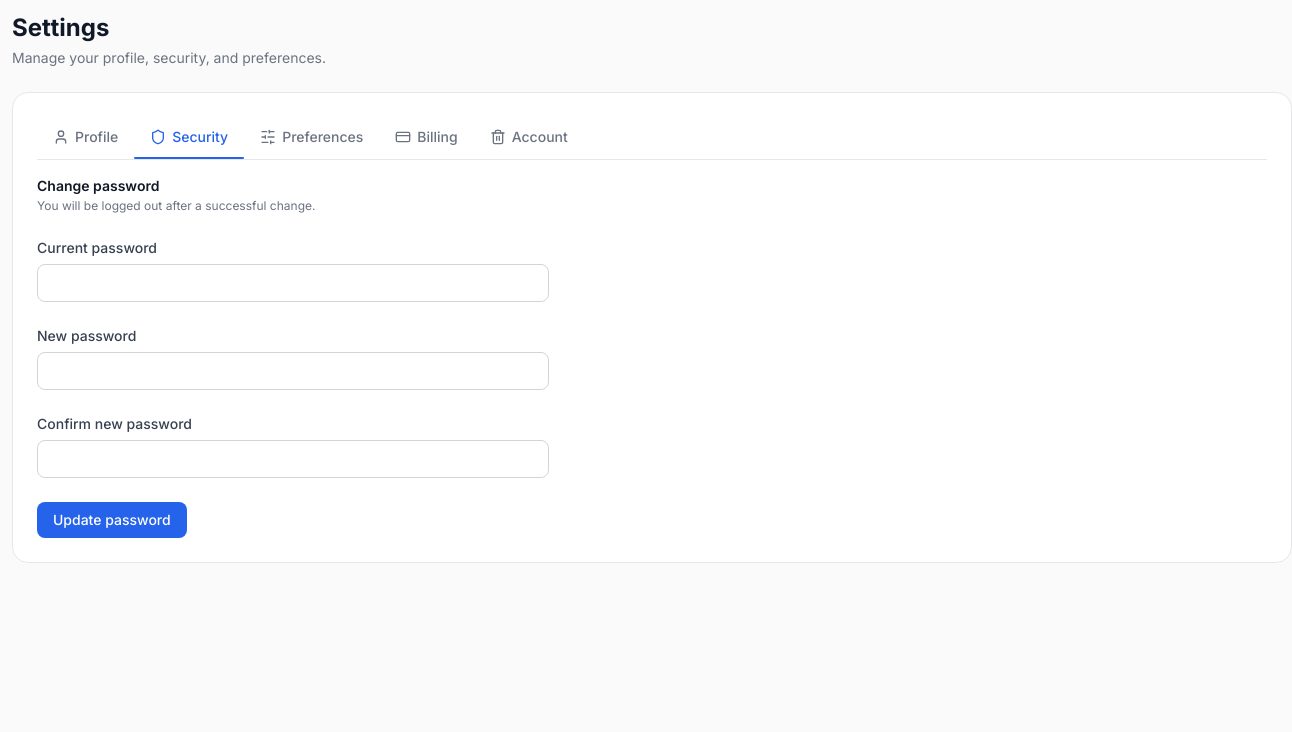
Test: SettingsPage › Security tab › shows mismatch error when passwords don't match
Type "current123" into the password field labelled "Current password". click: (293, 283)
box: [37,264,549,302]
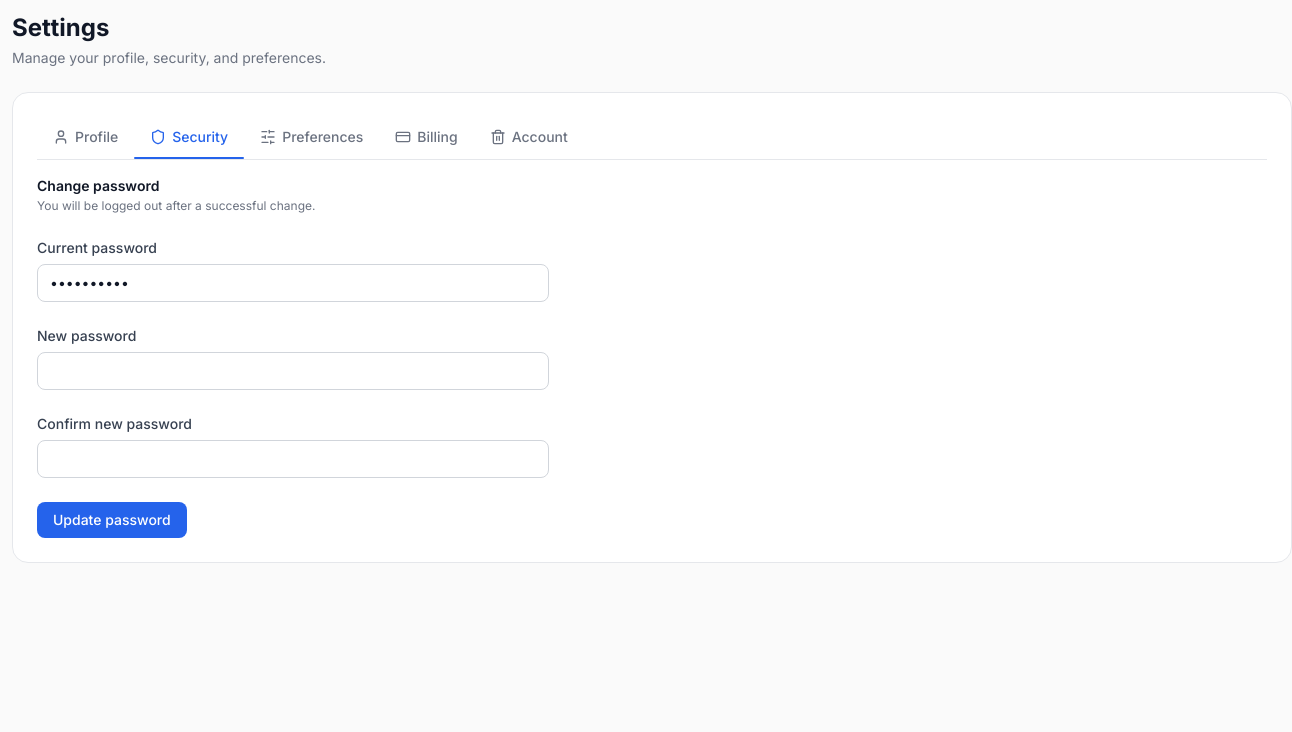
Type "NewPass1234!" into the password field labelled "New password". click: (293, 371)
box: [37,352,549,390]
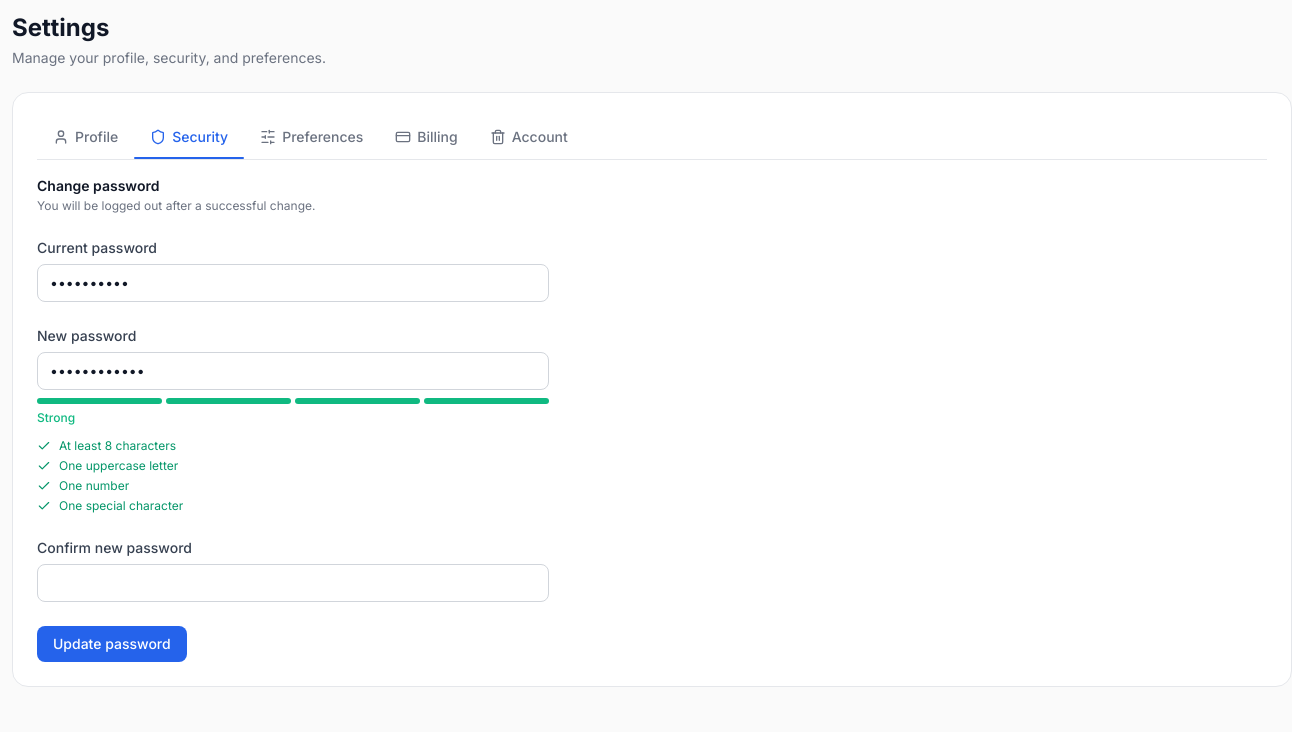
Type "Different1!" into the password field labelled "Confirm new password". click: (293, 583)
box: [37,564,549,602]
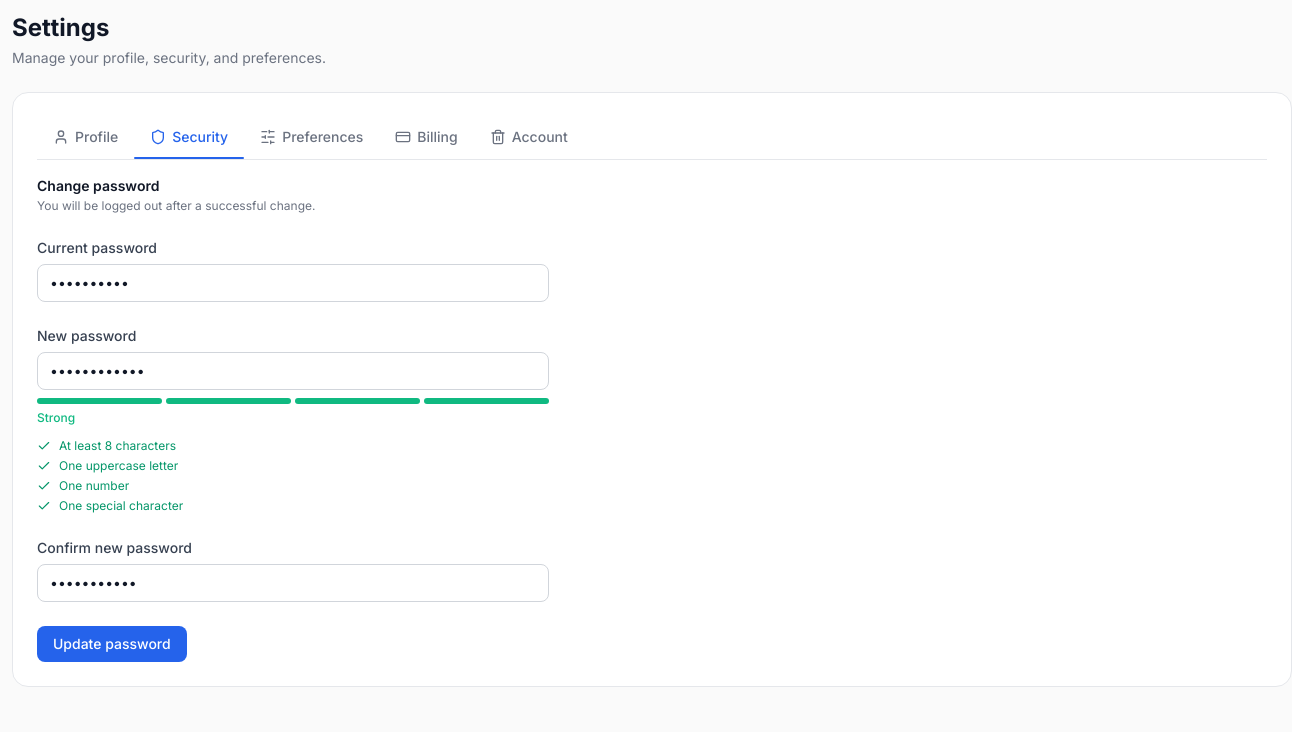
Click the button "Update password". click: (112, 644)
box: [37,626,187,662]
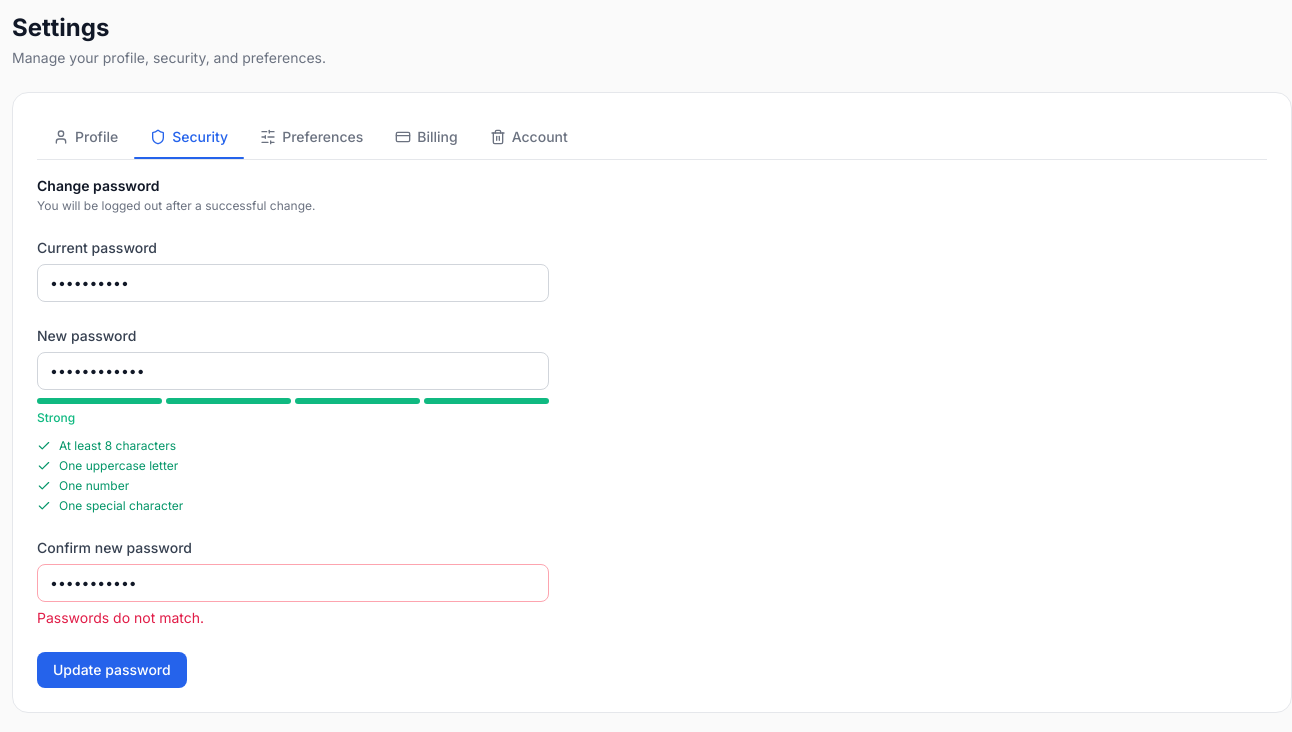
Check: the text "Passwords do not match." is shown, box [37,609,204,626]
